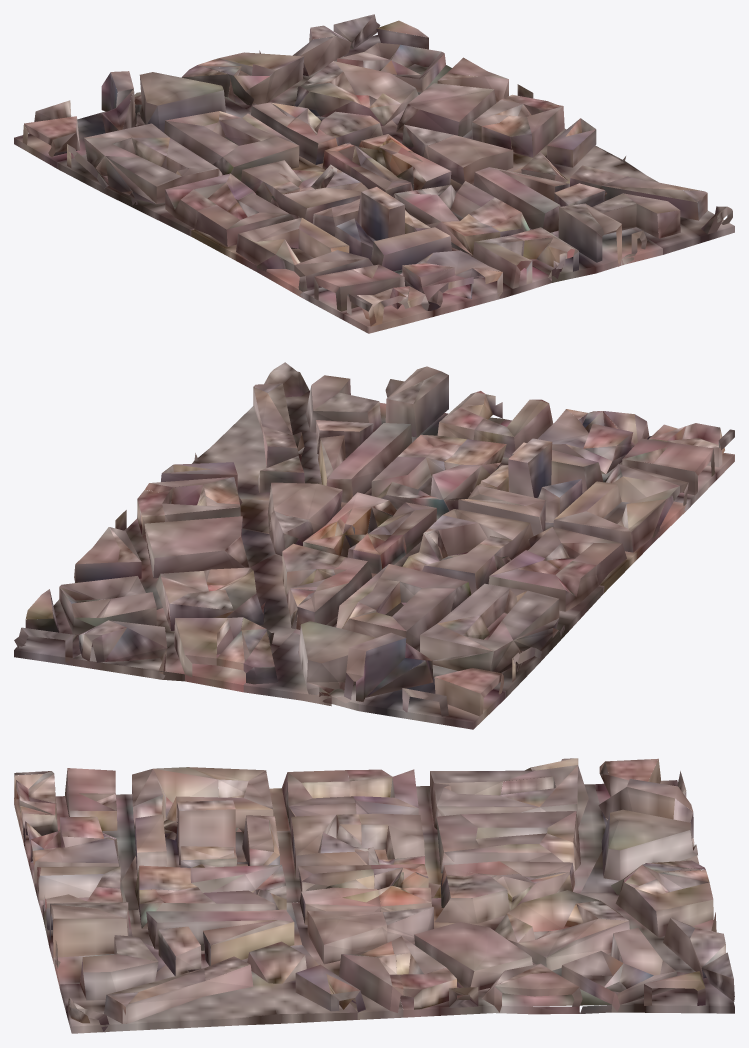
The picture shows the model from 3 angles, top to bottom: view 1: azimuth 30°, elevation 25°; view 2: azimuth 150°, elevation 25°; view 3: azimuth 270°, elevation 25°; orthographic projection. The views are drawn at different scales.
Parts seen in each view (by area): view 1: Mesh_0; view 2: Mesh_0; view 3: Mesh_0.
Part boxes in pixels (bbox=[...]): Mesh_0: bbox=[14, 14, 734, 333]; Mesh_0: bbox=[14, 362, 734, 729]; Mesh_0: bbox=[14, 758, 734, 1033].
Bounding box in the file's own units: 532 × 81.42 × 659.
Materials: 2 (2 with a texture image).
